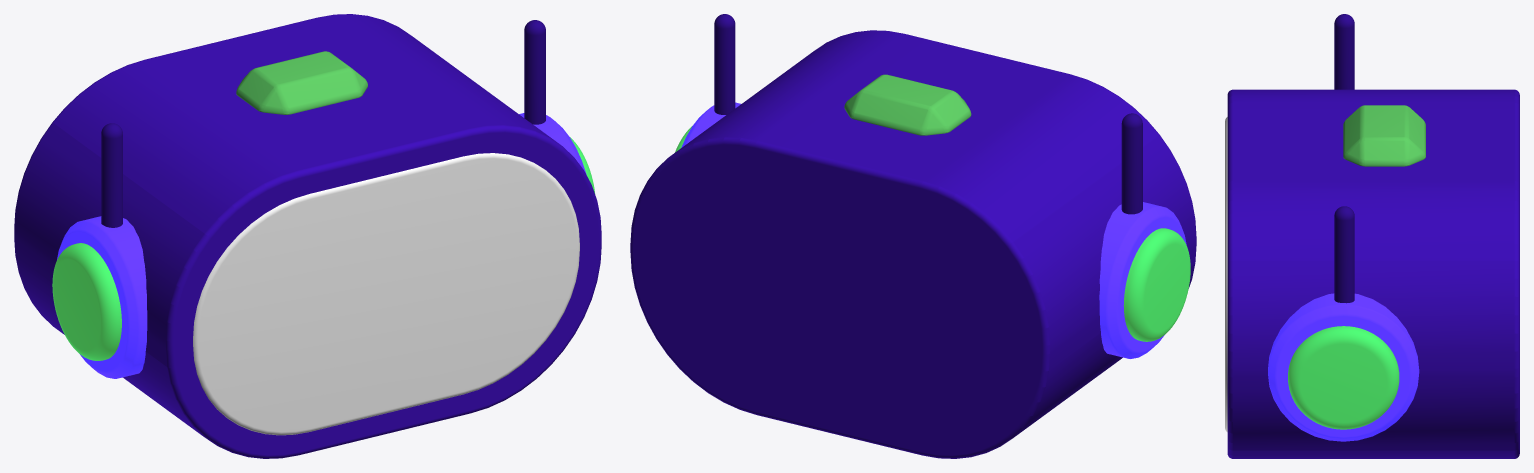
File: bot-drafts.gltf
The picture shows the model from 3 angles, left to right: view 1: azimuth 30°, elevation 25°; view 2: azimuth 150°, elevation 25°; view 3: azimuth 270°, elevation 25°; orthographic projection. The views are drawn at different scales.
Parts seen in each view (by area): view 1: Cube001, Cube001_1, Cylinder, Cylinder001, Cube002, Cylinder002; view 2: Cube001, Cylinder, Cylinder001, Cube002, Cylinder002; view 3: Cube001, Cylinder001, Cylinder, Cube002, Cylinder002, Cube001_1.
Part boxes in pixels (x1,y1,x2,y2): Cube001: (14, 14, 601, 458); Cube001_1: (193, 153, 579, 435); Cylinder: (57, 113, 586, 378); Cylinder001: (52, 137, 595, 360); Cube002: (236, 51, 367, 114); Cylinder002: (101, 20, 545, 227); Cube001: (630, 30, 1196, 458); Cylinder: (681, 102, 1186, 358); Cylinder001: (675, 126, 1190, 341); Cube002: (844, 74, 971, 135); Cylinder002: (714, 14, 1142, 214); Cube001: (1227, 89, 1519, 458); Cylinder001: (1288, 326, 1399, 429); Cylinder: (1268, 293, 1419, 441); Cube002: (1343, 105, 1425, 166); Cylinder002: (1334, 14, 1354, 303); Cube001_1: (1225, 117, 1227, 432).
Bounding box in the file's own units: 3.63 × 2.35 × 2.02.
